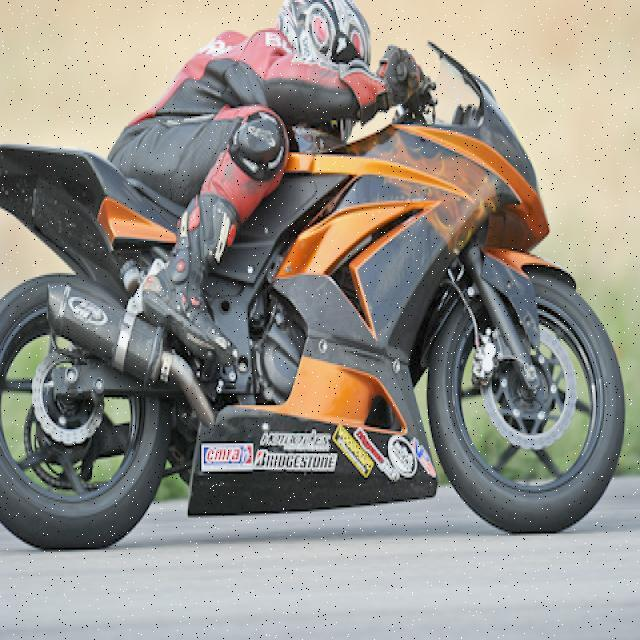motorcycle: (0, 46, 640, 549)
